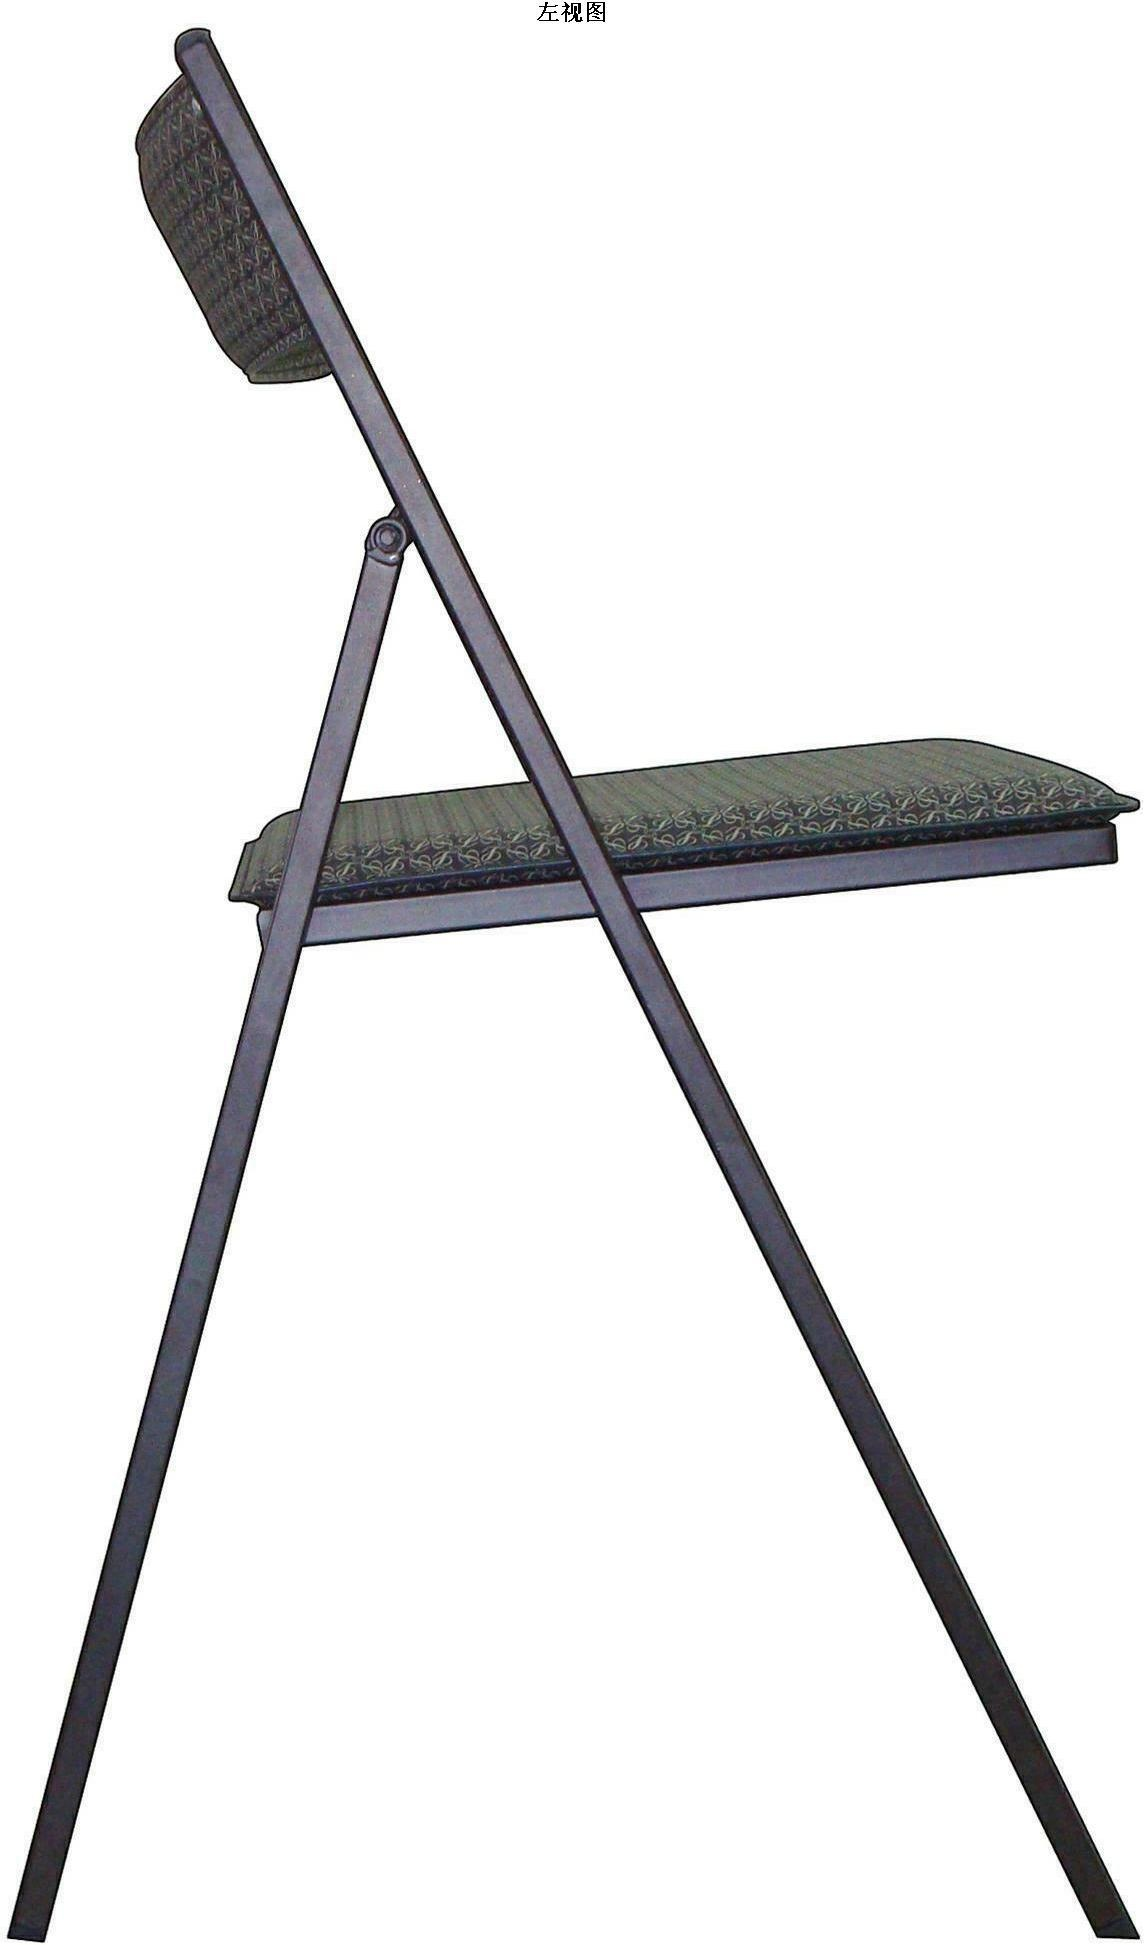obstacle: (4, 0, 1139, 1900)
